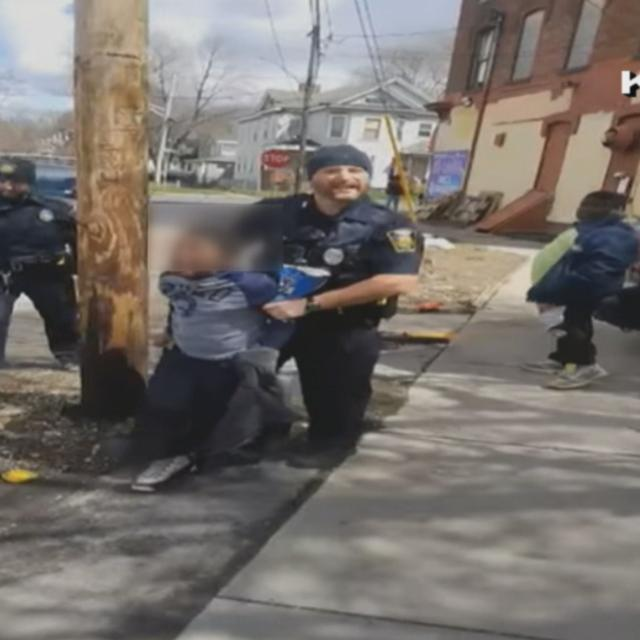police: (242, 134, 435, 466)
